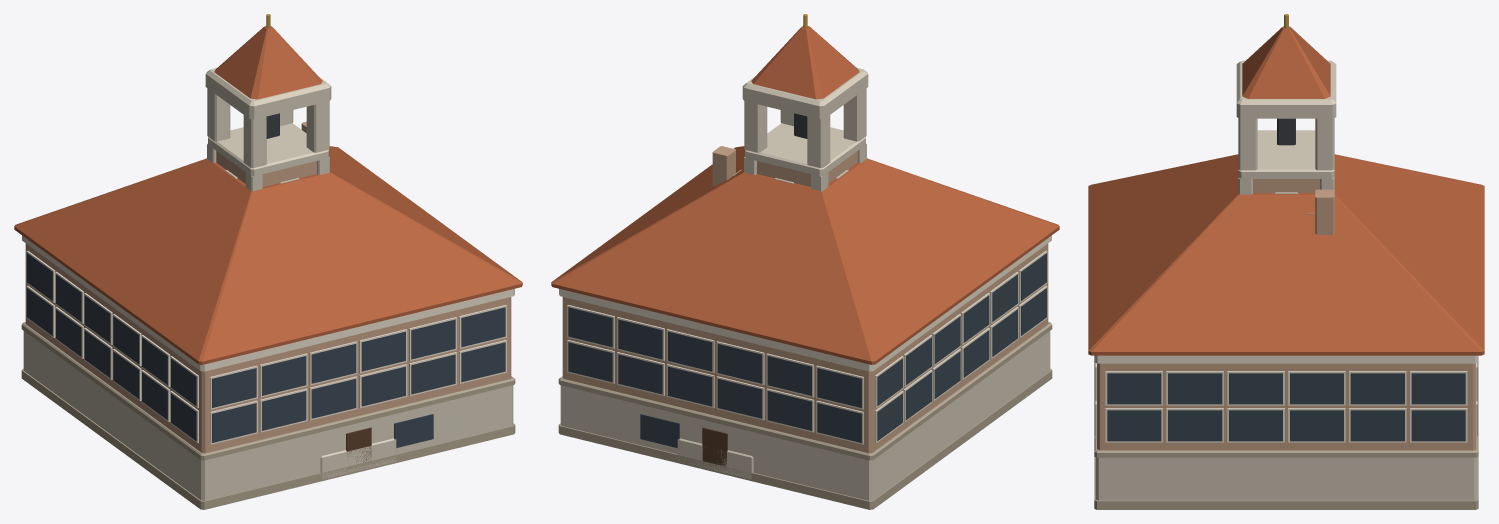
The model's file is Kit.fbx.
The picture shows the model from 3 angles, left to right: view 1: azimuth 30°, elevation 25°; view 2: azimuth 150°, elevation 25°; view 3: azimuth 270°, elevation 25°; orthographic projection. The views are drawn at different scales.
Visible parts, largest first — view 1: Block40_TW_Terracotta, Block40_TW_Glass, Block40_TW_Stone, Block40_TW_Cream, Block40_TW_Brick, ClockTower_TW_Stone, Block40_TW_StoneDark, ClockTower_TW_Terracotta, Arcade40_TW_Stone, ClockTower_TW_Brick, Block40_TW_WoodDark; view 2: Block40_TW_Terracotta, Block40_TW_Glass, Block40_TW_Stone, Block40_TW_Cream, Block40_TW_Brick, ClockTower_TW_Stone, Block40_TW_StoneDark, ClockTower_TW_Terracotta, Arcade40_TW_Stone, ClockTower_TW_Brick, Block40_TW_WoodDark; view 3: Block40_TW_Terracotta, Block40_TW_Glass, Block40_TW_Stone, Block40_TW_Brick, Block40_TW_Cream, ClockTower_TW_Stone, Block40_TW_StoneDark, ClockTower_TW_Terracotta, ClockTower_TW_Brick, ClockTower_TW_Iron.
Boxes of the visible parts, x1,y1,x2,y2 form: Block40_TW_Terracotta: [14, 146, 522, 364]; Block40_TW_Glass: [27, 253, 505, 447]; Block40_TW_Stone: [23, 331, 513, 500]; Block40_TW_Cream: [22, 235, 514, 444]; Block40_TW_Brick: [25, 121, 511, 453]; ClockTower_TW_Stone: [205, 68, 331, 191]; Block40_TW_StoneDark: [21, 322, 515, 509]; ClockTower_TW_Terracotta: [214, 26, 322, 99]; Arcade40_TW_Stone: [320, 438, 396, 479]; ClockTower_TW_Brick: [216, 151, 316, 186]; Block40_TW_WoodDark: [346, 427, 371, 462]; Block40_TW_Terracotta: [551, 146, 1059, 364]; Block40_TW_Glass: [568, 253, 1046, 447]; Block40_TW_Stone: [560, 331, 1050, 500]; Block40_TW_Cream: [559, 235, 1051, 444]; Block40_TW_Brick: [562, 146, 1048, 453]; ClockTower_TW_Stone: [742, 68, 868, 191]; Block40_TW_StoneDark: [558, 322, 1052, 509]; ClockTower_TW_Terracotta: [751, 26, 859, 99]; Arcade40_TW_Stone: [677, 438, 753, 479]; ClockTower_TW_Brick: [757, 151, 857, 186]; Block40_TW_WoodDark: [702, 427, 727, 466]; Block40_TW_Terracotta: [1088, 154, 1484, 355]; Block40_TW_Glass: [1095, 363, 1477, 441]; Block40_TW_Stone: [1095, 457, 1477, 500]; Block40_TW_Brick: [1097, 189, 1475, 450]; Block40_TW_Cream: [1094, 355, 1478, 442]; ClockTower_TW_Stone: [1236, 60, 1336, 194]; Block40_TW_StoneDark: [1094, 362, 1478, 509]; ClockTower_TW_Terracotta: [1242, 26, 1330, 98]; ClockTower_TW_Brick: [1253, 179, 1319, 192]; ClockTower_TW_Iron: [1277, 118, 1295, 145].
Size of the model in its own units: 41.2 by 48.9 by 41.2.
